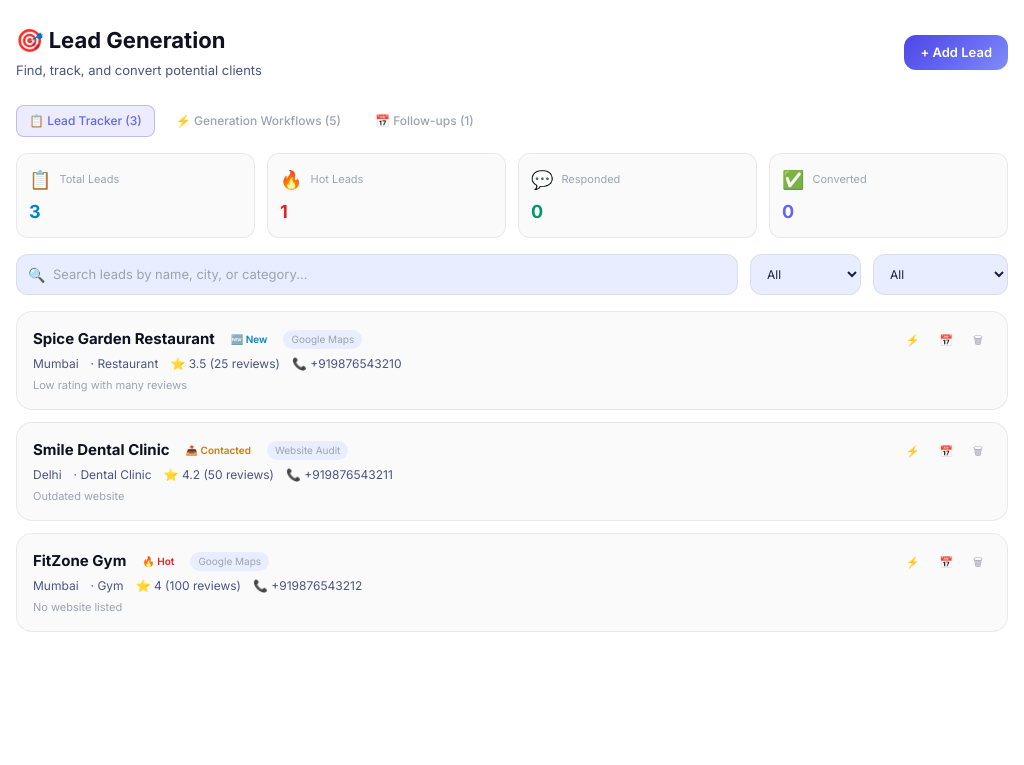
it: LeadsTab › lead tracker › expands lead details when clicked
Click the heading "Spice Garden Restaurant".
click(124, 339)  # box top-left (33, 328), bottom-right (215, 350)
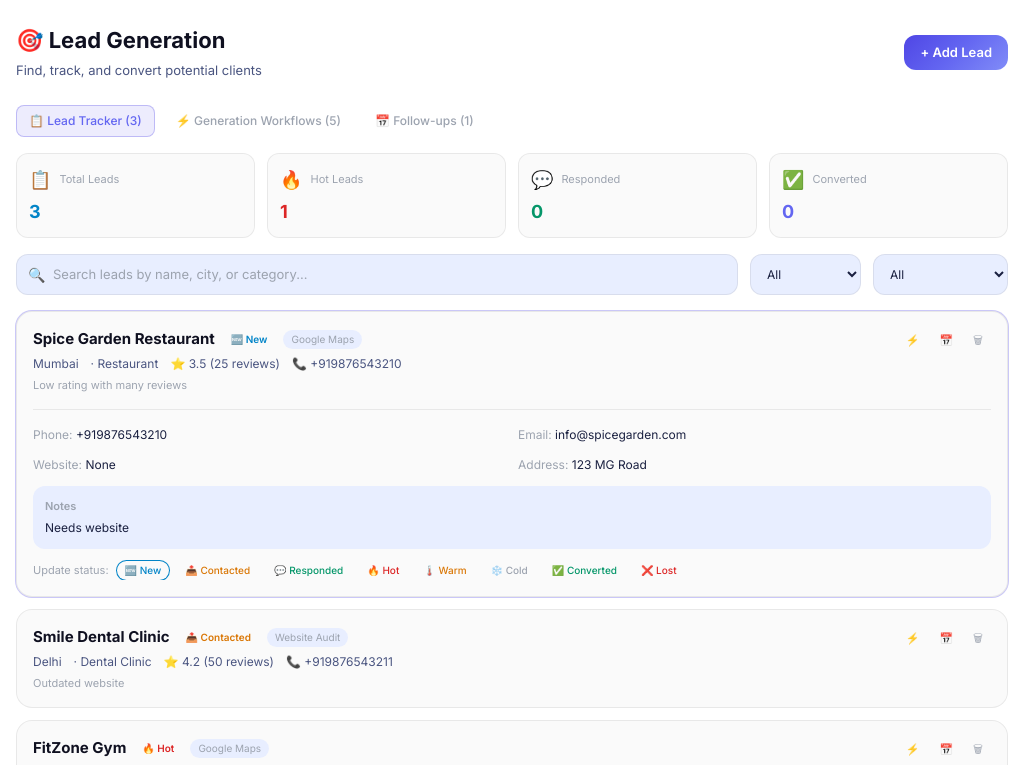
expect the text "Phone:" is shown: met, box top-left (33, 427), bottom-right (72, 442)
expect the text "Email:" is shown: met, box top-left (518, 427), bottom-right (552, 442)
expect the text "Website:" is shown: met, box top-left (33, 457), bottom-right (82, 472)
